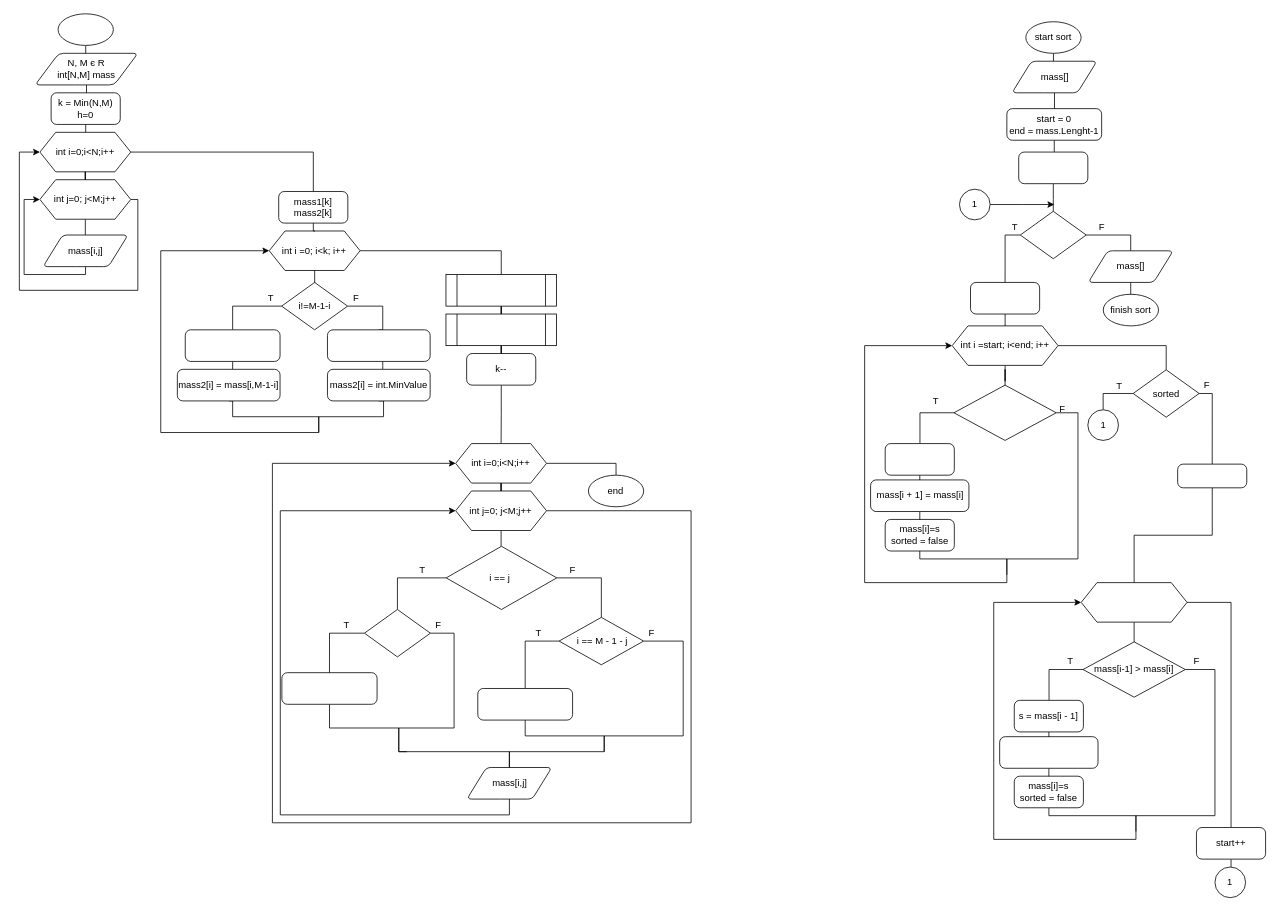
The diagram is 1280 pixels wide and 912 high, and some of its shapes have lost their labels. Each missing label, with the centre of its shape:
"!sorted" belongs at point (1052, 235).
"end-- sorted = true" belongs at point (1212, 475).
"i != M - 1 - j" belongs at point (397, 633).
"int i =end; i>start; i--" belongs at point (1133, 602).
"mass1=sort(mass1)" belongs at point (501, 290).
"mass1[i] = int.MaxValue" belongs at point (378, 345).
"mass1[i] = mass[i, i]" belongs at point (232, 345).
"mass2=sort(mass2)" belongs at point (501, 329).
"mass[i - 1] = mass[i]" belongs at point (1048, 752).
"mass[i, j] = mass1[h] h++" belongs at point (329, 688).
"mass[i, j] = mass2[k] k--" belongs at point (525, 704).
"mass[i] > mass[i + 1]" belongs at point (1004, 412).
"s = mass[i + 1]" belongs at point (919, 459).
"sorted = false" belongs at point (1053, 167).
"sorted = true" belongs at point (1005, 298).
"start" belongs at point (85, 29).
